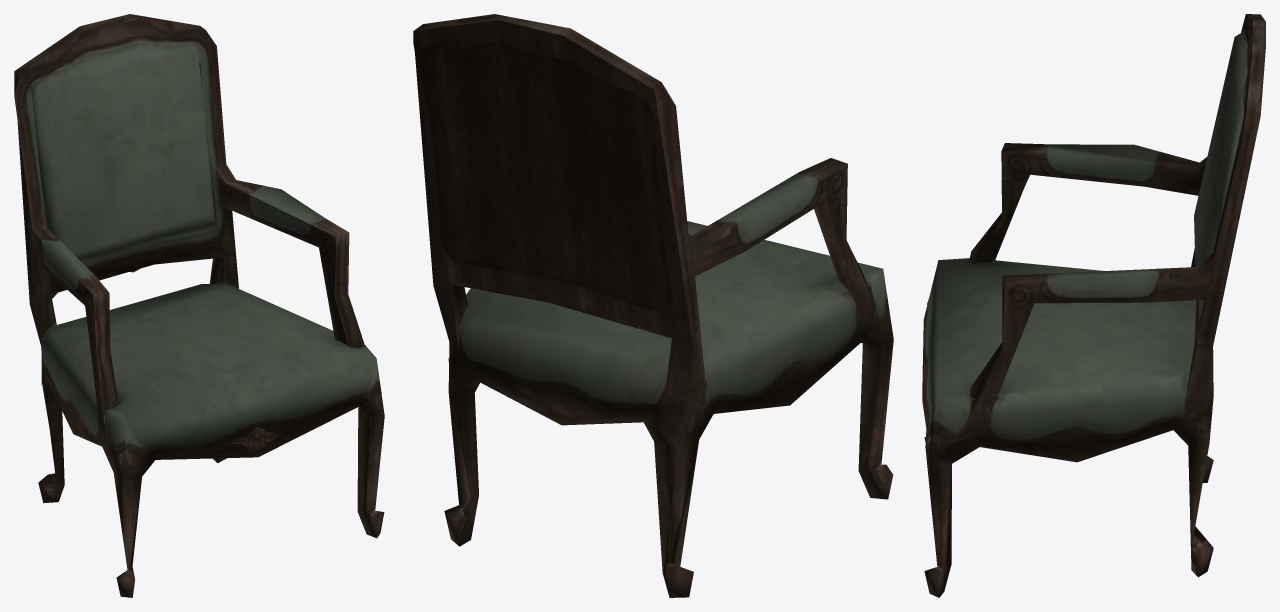
File: GreenChair_01.glb
The picture shows the model from 3 angles, left to right: view 1: azimuth 30°, elevation 25°; view 2: azimuth 150°, elevation 25°; view 3: azimuth 270°, elevation 25°; orthographic projection. The views are drawn at different scales.
Visible parts, largest first — view 1: GreenChair_01; view 2: GreenChair_01; view 3: GreenChair_01.
Part boxes in pixels (x1,y1,x2,y2): GreenChair_01: (14, 14, 384, 597); GreenChair_01: (413, 14, 893, 597); GreenChair_01: (922, 14, 1265, 597).
Size of the model in its own units: 0.6644 by 1.04 by 0.658.
Materials: 1 (1 with a texture image).
